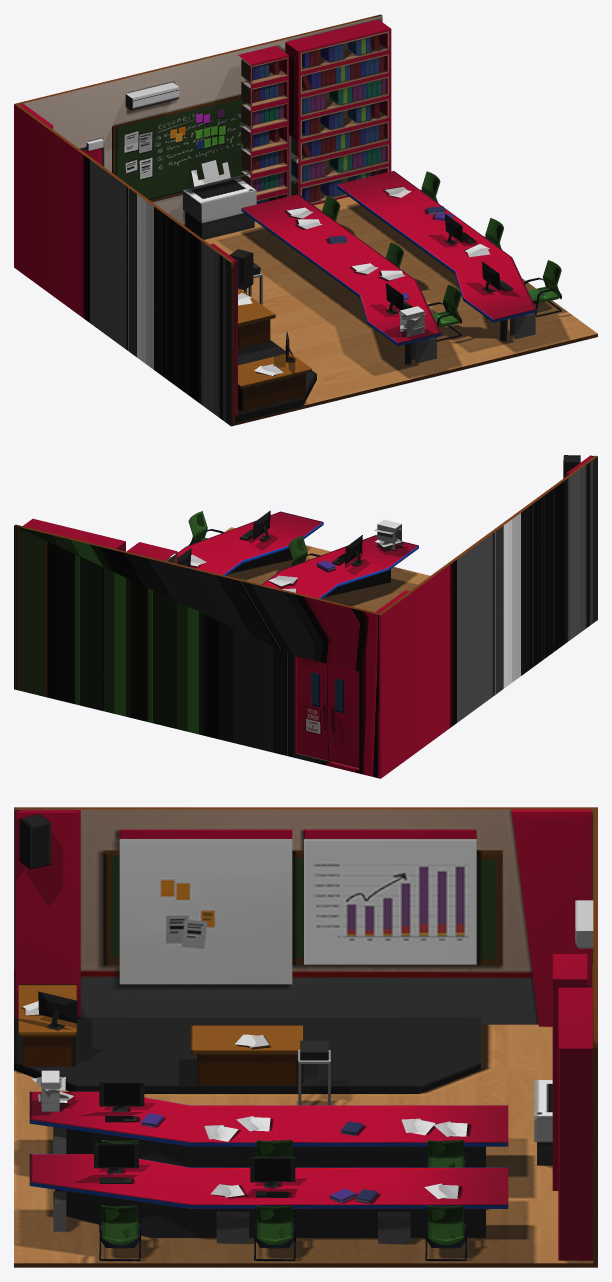
File: Tx_Interior_Education_Research_20170628.fbx
3 views of the same model, one above another, from view 1: azimuth 30°, elevation 25°; view 2: azimuth 150°, elevation 25°; view 3: azimuth 270°, elevation 25° (orthographic). The views are drawn at different scales.
Parts seen in each view (by area): view 1: bake_layer_2, bake_layer_1; view 2: bake_layer_2, bake_layer_1; view 3: bake_layer_2, bake_layer_1.
Part boxes in pixels (x1,y1,x2,y2): bake_layer_2: (14,14,597,426); bake_layer_1: (238,19,535,363); bake_layer_2: (14,455,597,778); bake_layer_1: (23,518,177,563); bake_layer_2: (14,807,597,1267); bake_layer_1: (53,954,592,1260).
Bounding box in the file's own units: 52.33 × 22.3 × 53.69.
Materials: 2 (2 with a texture image).
